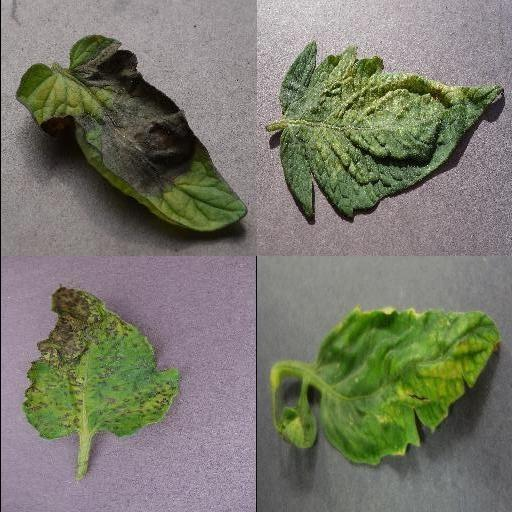Late Blight: (12, 34, 250, 232)
Septoria: (26, 285, 180, 441)
Spider Mites: (278, 40, 502, 216)
Yellow Leaf Curl Virus: (316, 306, 500, 466)
